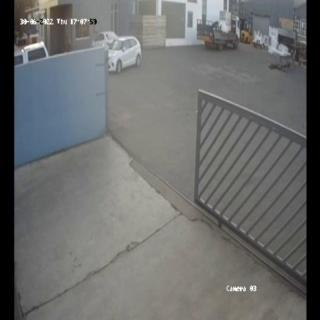car: (106, 36, 140, 72), (267, 46, 291, 70), (90, 31, 118, 48)
